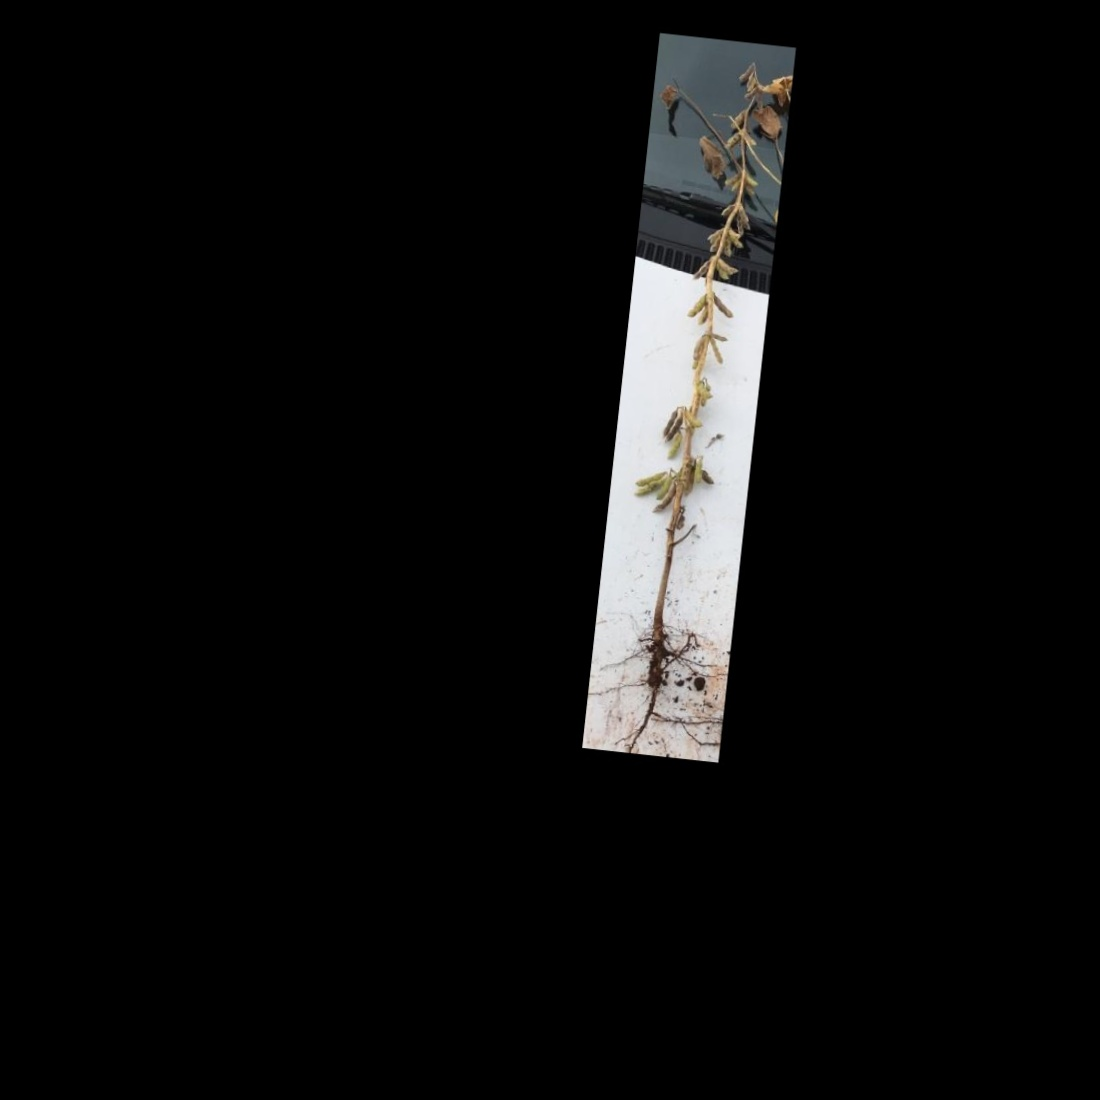pod: (711, 291, 737, 320), (666, 429, 682, 465), (708, 337, 727, 366), (655, 474, 673, 502), (682, 410, 706, 429), (699, 467, 719, 488), (693, 456, 704, 485)
soy: (594, 54, 789, 737)
